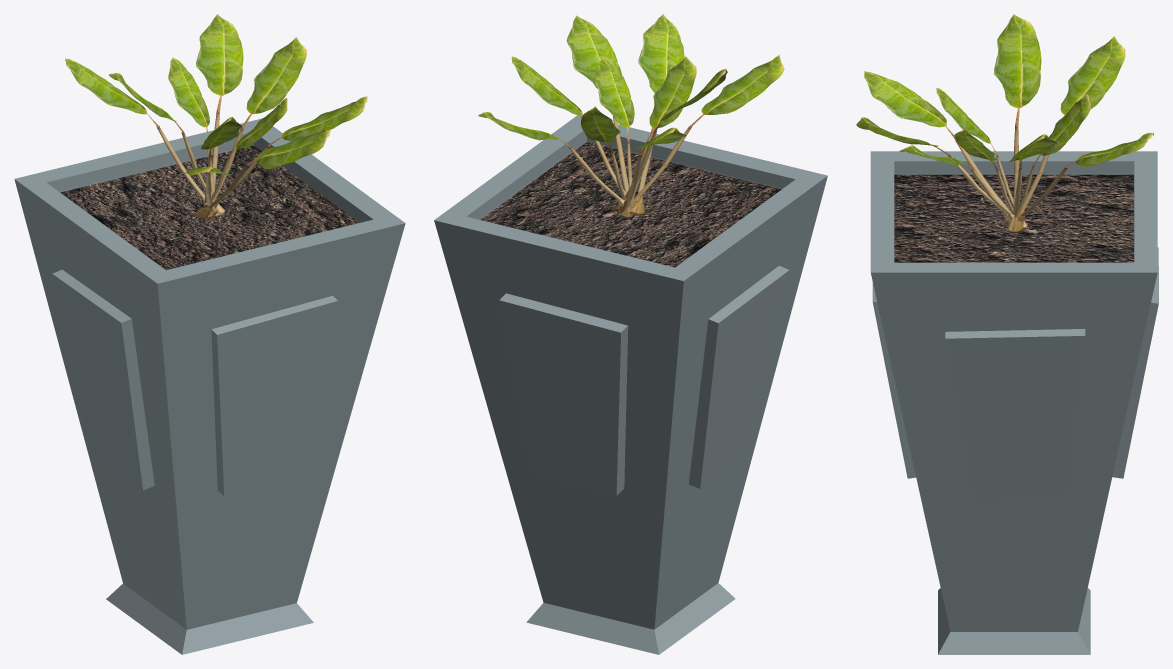
Rendered from Under Research pa.fbx.
3 views of the same model, side by side, from view 1: azimuth 30°, elevation 25°; view 2: azimuth 150°, elevation 25°; view 3: azimuth 270°, elevation 25° (orthographic).
Visible parts, largest first — view 1: Cube; view 2: Cube; view 3: Cube.
Part boxes in pixels (left/top/right/bottom): Cube: left=14, top=14, right=405, bottom=654; Cube: left=434, top=14, right=827, bottom=654; Cube: left=856, top=14, right=1158, bottom=654.
Size of the model in its own units: 50.1 by 108 by 52.84.
22 materials, 21 textured.
